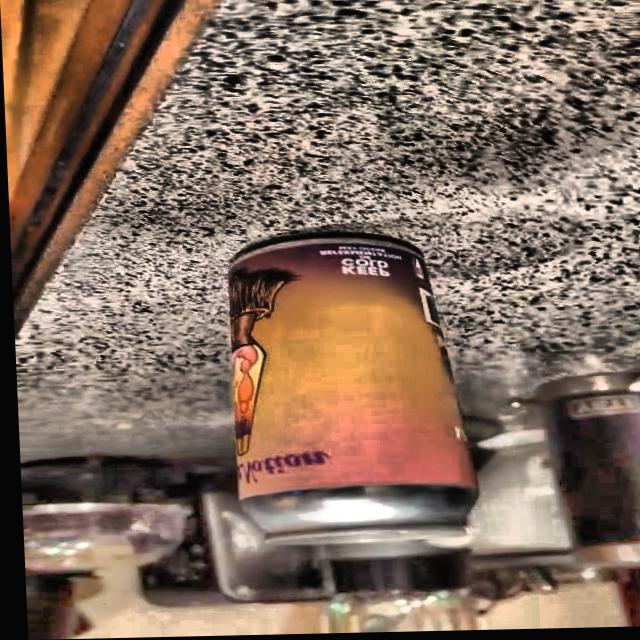can: (211, 220, 480, 561)
